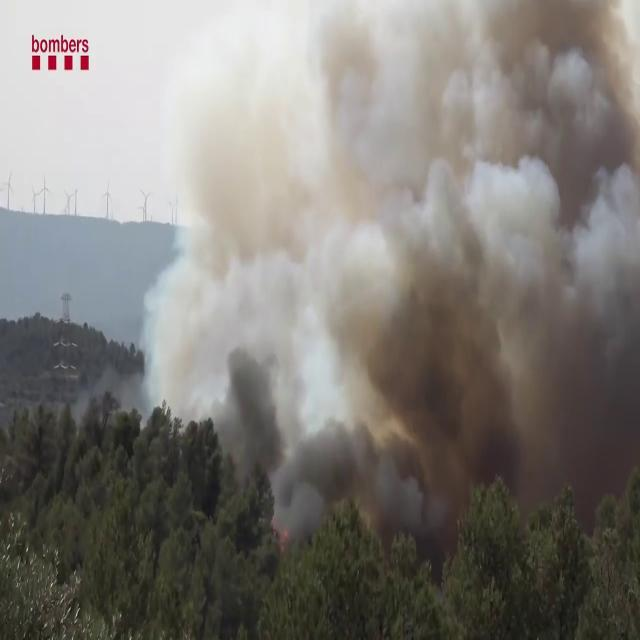Smoke: (137, 0, 640, 529)
